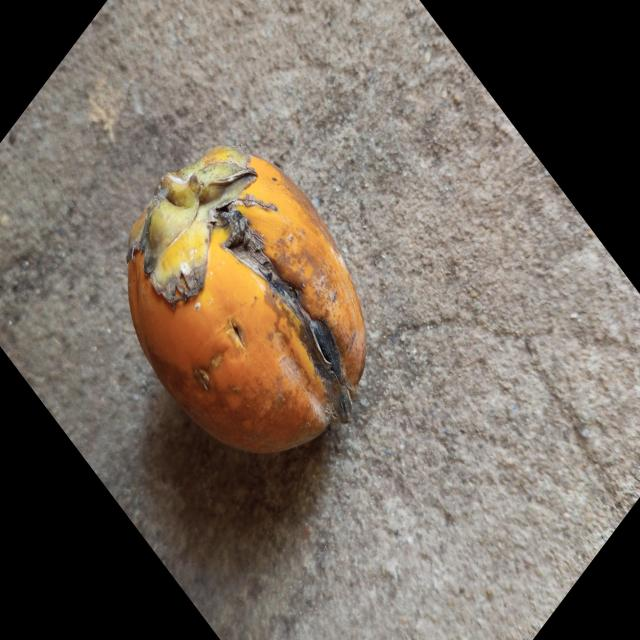damaged: (125, 148, 366, 458)
